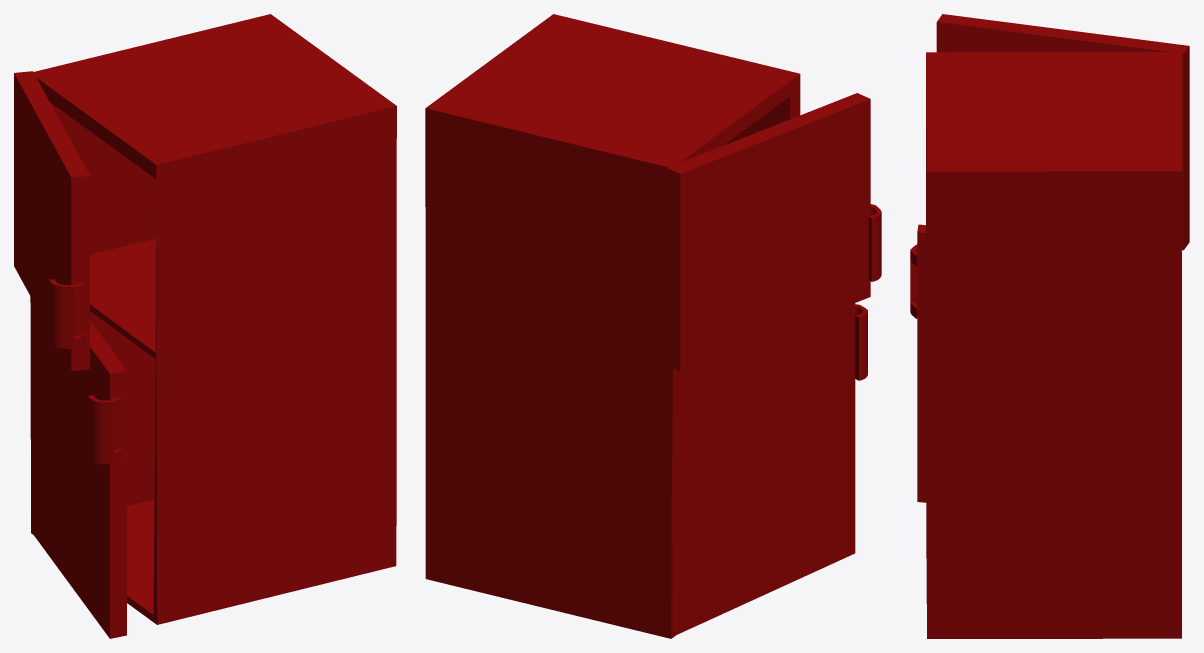
File: N_Fridge.fbx
3 renders of one model, left to right at view 1: azimuth 30°, elevation 25°; view 2: azimuth 150°, elevation 25°; view 3: azimuth 270°, elevation 25°, orthographic. The views are drawn at different scales.
Parts seen in each view (by area): view 1: Frigo; view 2: Frigo; view 3: Frigo.
Boxes of the visible parts, box(x1,y1,x2,y2) form: Frigo: box(14, 14, 396, 638); Frigo: box(425, 14, 881, 638); Frigo: box(910, 14, 1189, 638).
Size of the model in its own units: 130 by 172 by 93.21.
